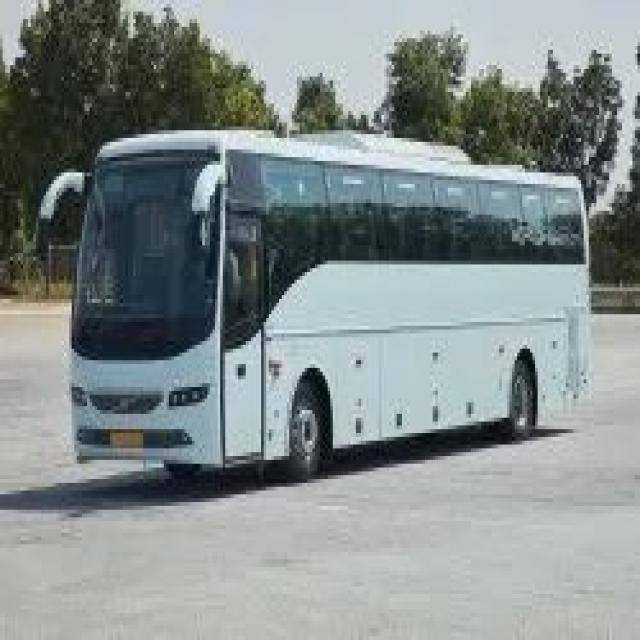bus: (42, 131, 591, 472)
